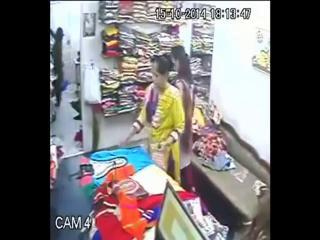Normal: (126, 55, 186, 185)
